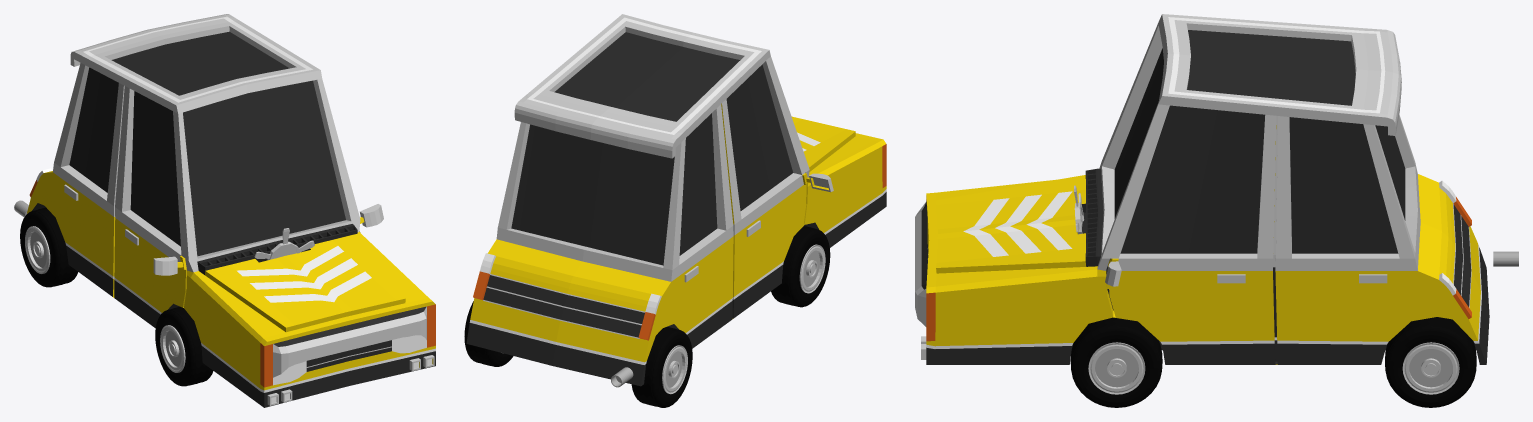
The model's file is CR-CAR-17B.fbx.
The picture shows the model from 3 angles, left to right: view 1: azimuth 30°, elevation 25°; view 2: azimuth 150°, elevation 25°; view 3: azimuth 270°, elevation 25°; orthographic projection. The views are drawn at different scales.
Parts seen in each view (by area): view 1: BODY, WHEEL.001, WHEEL.004, FAN; view 2: BODY, WHEEL.004, WHEEL.001, WHEEL.002; view 3: BODY, WHEEL.003, WHEEL.002.
Part boxes in pixels (<box>): BODY: <box>27,14,435,407</box>; WHEEL.001: <box>155,306,213,386</box>; WHEEL.004: <box>20,207,77,287</box>; FAN: <box>254,228,314,260</box>; BODY: <box>466,14,886,386</box>; WHEEL.004: <box>631,327,692,407</box>; WHEEL.001: <box>771,226,830,307</box>; WHEEL.002: <box>464,301,513,366</box>; BODY: <box>915,14,1489,364</box>; WHEEL.003: <box>1070,317,1162,407</box>; WHEEL.002: <box>1385,317,1476,407</box>.
Size of the model in its own units: 131 by 142 by 257.
